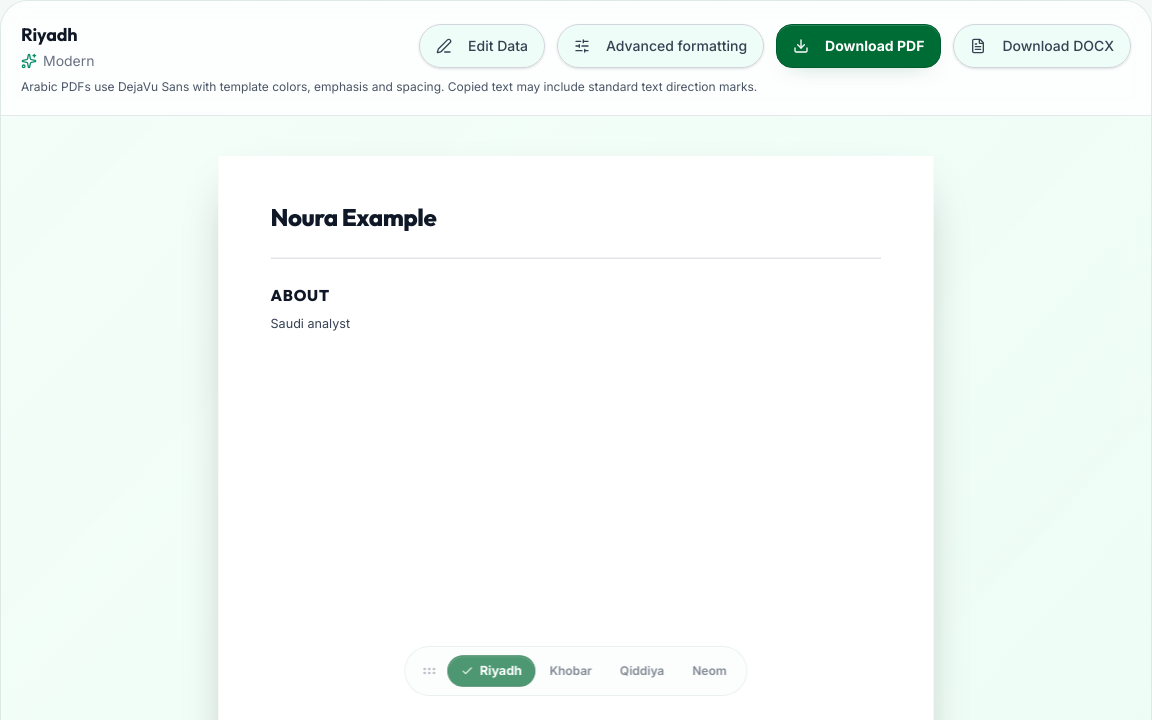
Test case: signed-out PDF downloads › explains reader_unavailable without claiming PDF text is missing
Click the button "Download PDF".
click(859, 46)  # box [776,24,941,68]
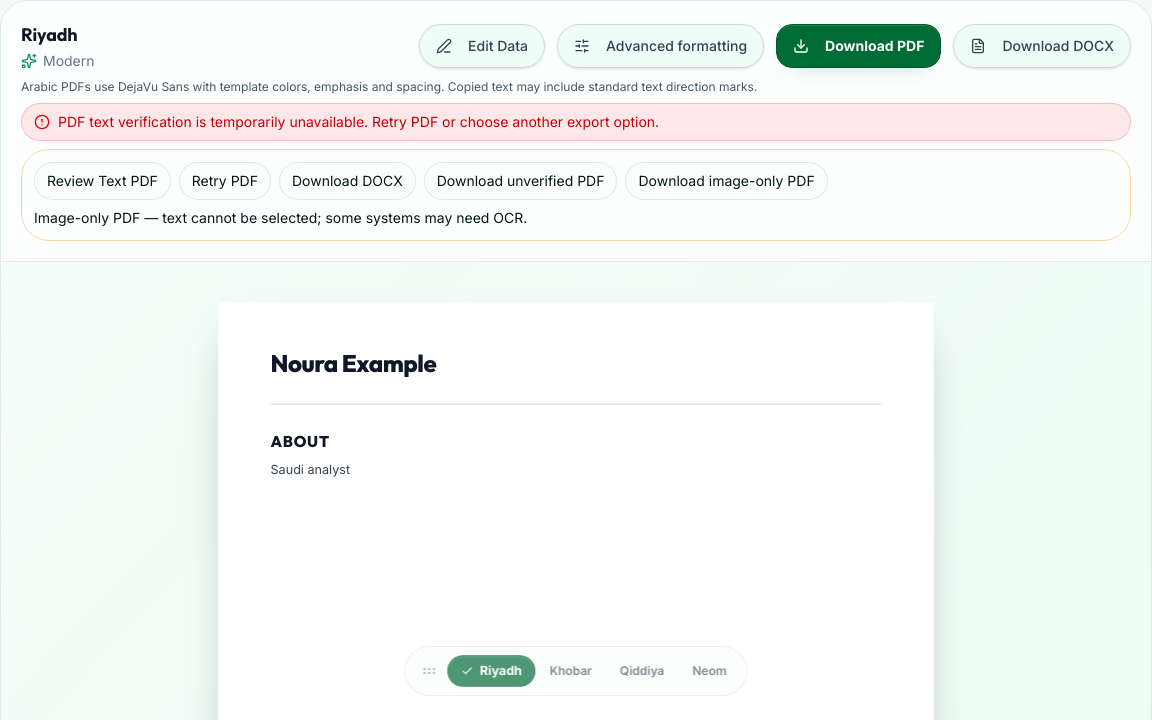
Check: the message shows "PDF text verification is temporarily unavailable. Retry PDF or choose another export option.", box [58,113,659,130]
Check: the button "Download unverified PDF" is shown, box [424,162,617,200]
